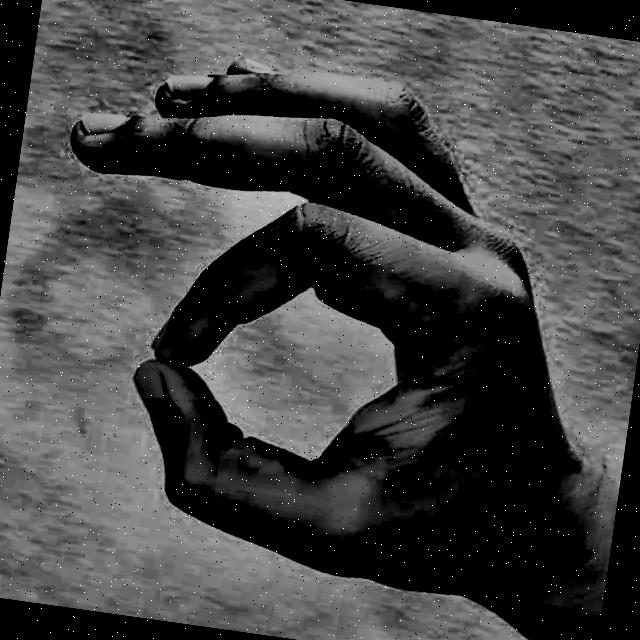Yo: (0, 0, 634, 640)
